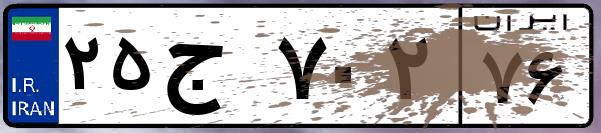0: (330, 28, 385, 110)
2: (385, 28, 445, 110), (57, 26, 110, 100)
5: (110, 28, 158, 98)
6: (525, 38, 570, 115)
7: (270, 28, 330, 110), (475, 38, 525, 113)
ج: (158, 20, 270, 120)
